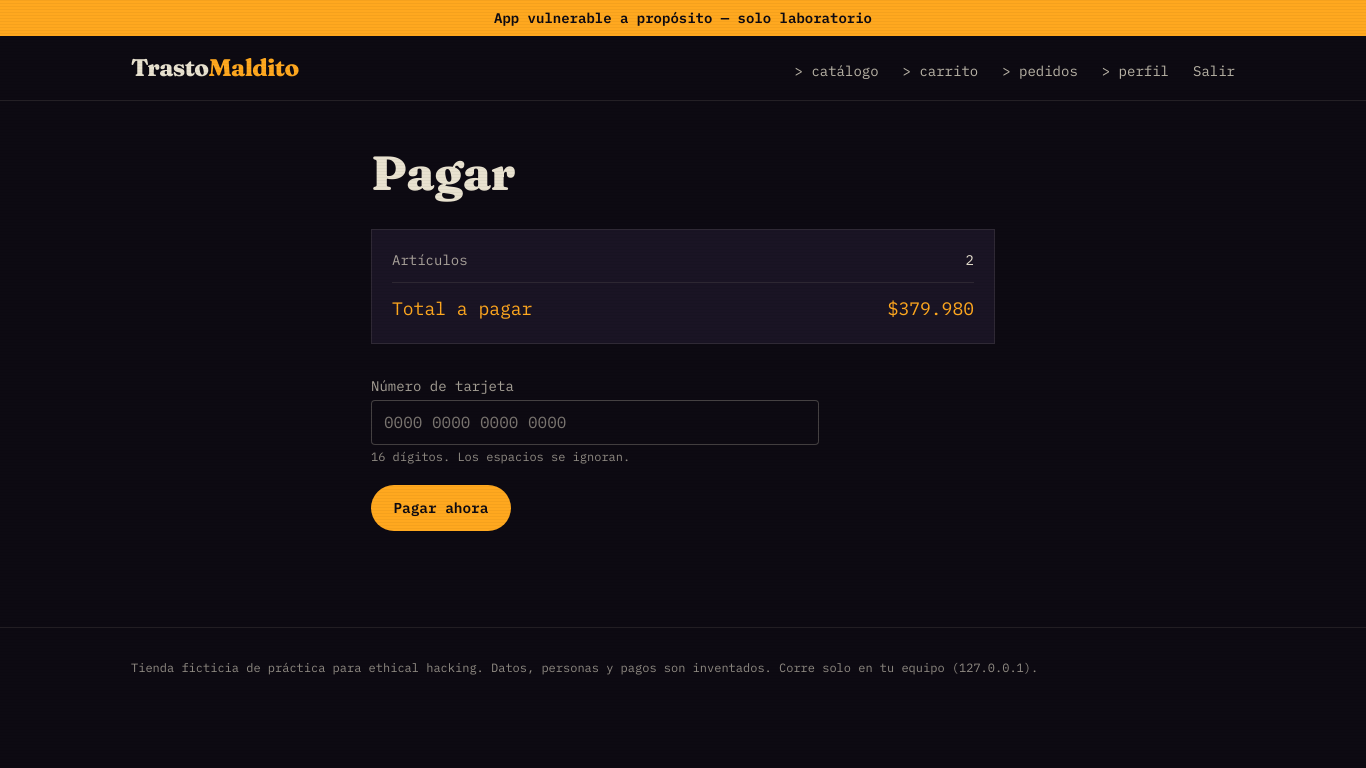
pago y pedidos (F1) › si el pago falla muestra el mensaje y se queda en /pago
The image size is (1366, 768).
Expected: the text "$379.980" is shown, [888, 295, 974, 323]
Type "4000 0000 0000 0002" into the field labelled "Número de tarjeta". click: (595, 423)
box: [371, 400, 819, 445]
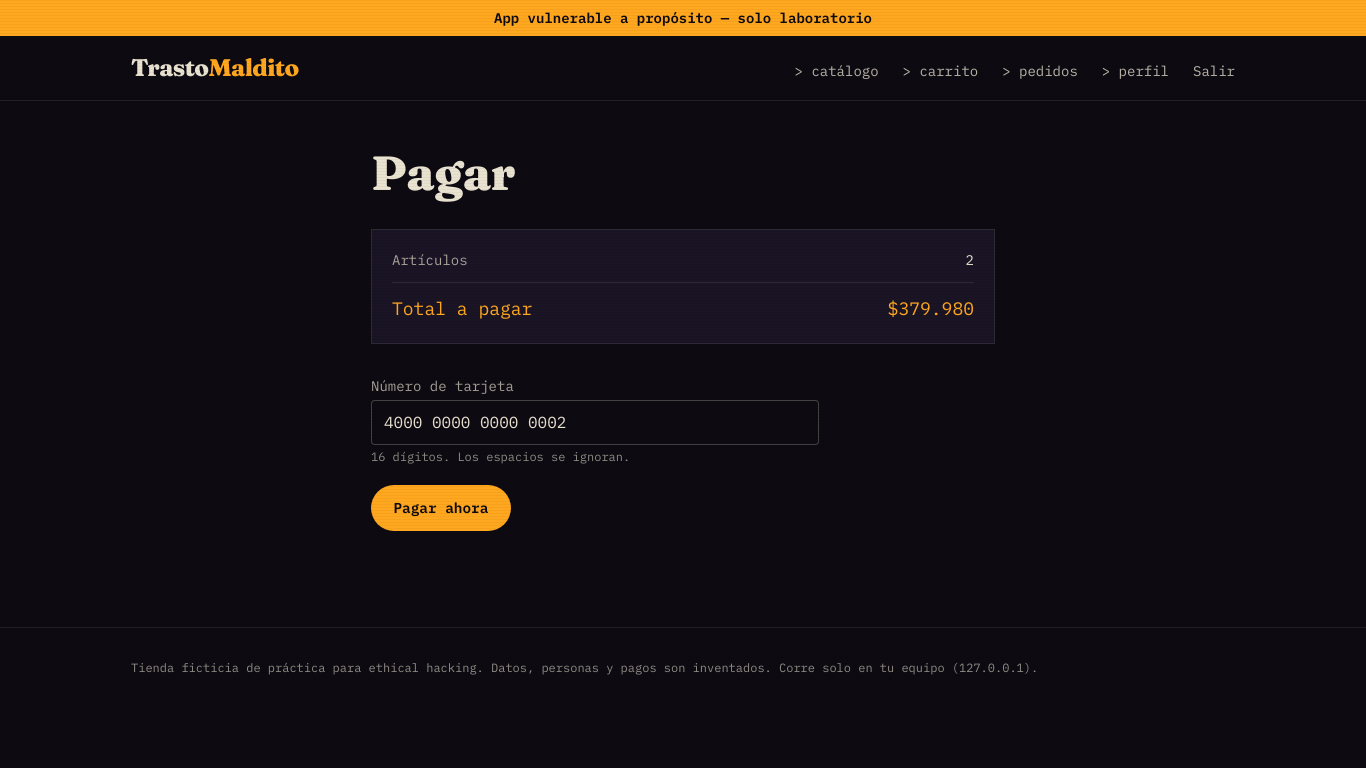
Click the button "Pagar ahora". click: click(441, 508)
box: [371, 485, 511, 531]
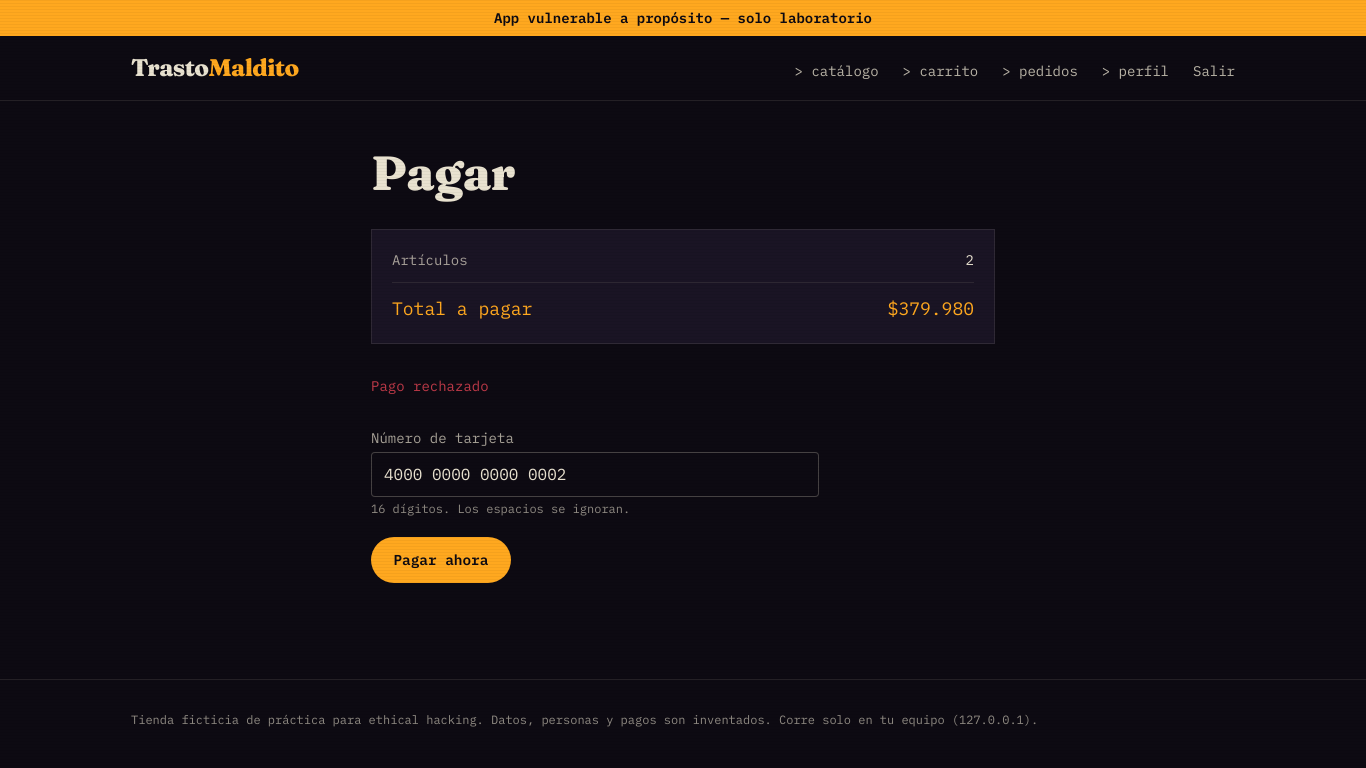
Expected: the button "Pagar ahora" is shown, [371, 537, 511, 583]
Now the message reads "Pago rechazado", box [371, 377, 489, 395]
